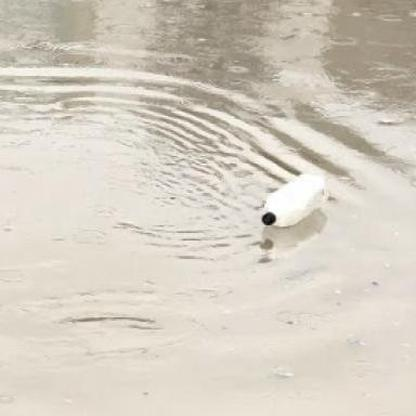plastic bottle: (263, 172, 326, 226)
